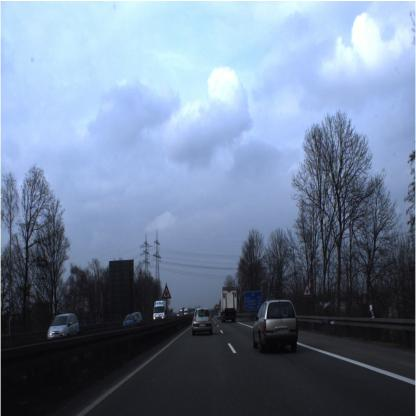SNOW: (161, 284, 172, 299), (302, 282, 312, 297)
